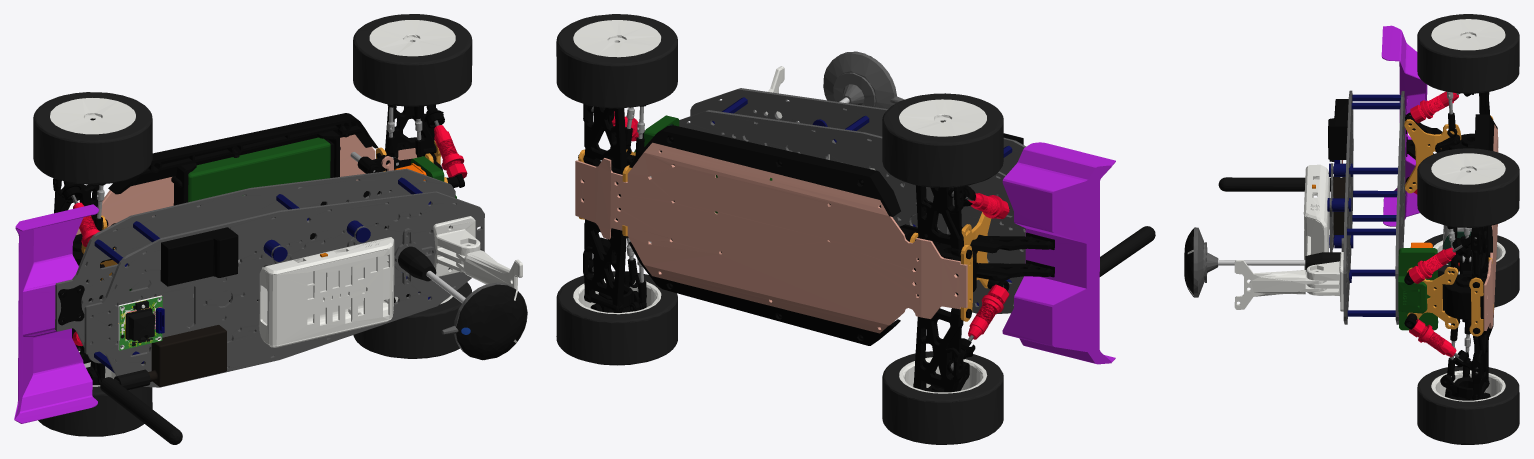
The model's file is car.glb.
3 renders of one model, left to right at view 1: azimuth 30°, elevation 25°; view 2: azimuth 150°, elevation 25°; view 3: azimuth 270°, elevation 25°, orthographic. The views are drawn at different scales.
Visible parts, largest first — view 1: c595959, c1b1b1b, cebebe6, c030303, cb820de, c0d0d0d, c0f4e10, c16110d, cd89d8b, c080b4e, cf40031, c000000 (+2 smaller); view 2: cd89d8b, c1b1b1b, c030303, c595959, cb820de, cebebe6, cf40031, ce69933, c0d0d0d, c000000, c080b4e; view 3: c1b1b1b, cebebe6, c030303, c595959, c080b4e, ce69933, cb820de, c0d0d0d, cf40031, c0f4e10, cd89d8b, c000000 (+3 smaller).
Boxes of the visible parts, <box> form: c595959: <box>55,120,527,387</box>; c1b1b1b: <box>33,14,472,436</box>; cebebe6: <box>50,20,522,386</box>; c030303: <box>53,104,458,385</box>; cb820de: <box>14,204,98,423</box>; c0d0d0d: <box>100,246,527,444</box>; c0f4e10: <box>129,137,456,290</box>; c16110d: <box>148,325,226,386</box>; cd89d8b: <box>76,134,417,235</box>; c080b4e: <box>94,177,430,372</box>; cf40031: <box>72,125,467,346</box>; c000000: <box>61,105,464,348</box>; cd89d8b: <box>575,142,967,333</box>; c1b1b1b: <box>556,14,1003,444</box>; c030303: <box>578,104,1054,392</box>; c595959: <box>588,51,1026,370</box>; cb820de: <box>1002,142,1115,364</box>; cebebe6: <box>573,20,987,393</box>; cf40031: <box>612,111,1009,339</box>; ce69933: <box>578,149,991,321</box>; c0d0d0d: <box>854,51,1155,276</box>; c000000: <box>587,105,1009,373</box>; c080b4e: <box>712,97,1012,305</box>; c1b1b1b: <box>1417,14,1519,444</box>; cebebe6: <box>1187,19,1505,401</box>; c030303: <box>1328,37,1497,400</box>; c595959: <box>1193,90,1477,373</box>; c080b4e: <box>1327,94,1400,316</box>; ce69933: <box>1404,115,1493,336</box>; cb820de: <box>1381,25,1427,226</box>; c0d0d0d: <box>1184,160,1340,296</box>; cf40031: <box>1408,91,1458,357</box>; c0f4e10: <box>1398,248,1438,330</box>; cd89d8b: <box>1454,124,1498,330</box>; c000000: <box>1404,93,1483,373</box>.
Size of the model in its own units: 0.3481 by 0.2 by 0.2382.
